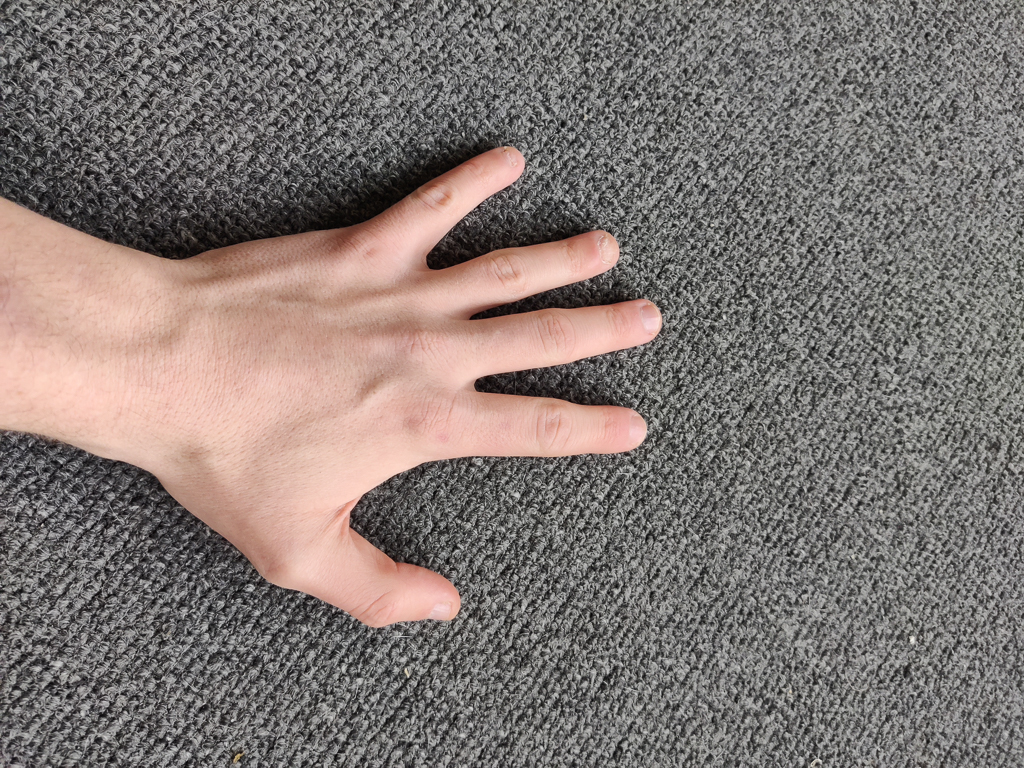Humanoid: (0, 130, 675, 635)
